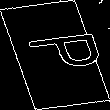P_E: (8, 32, 102, 78)
